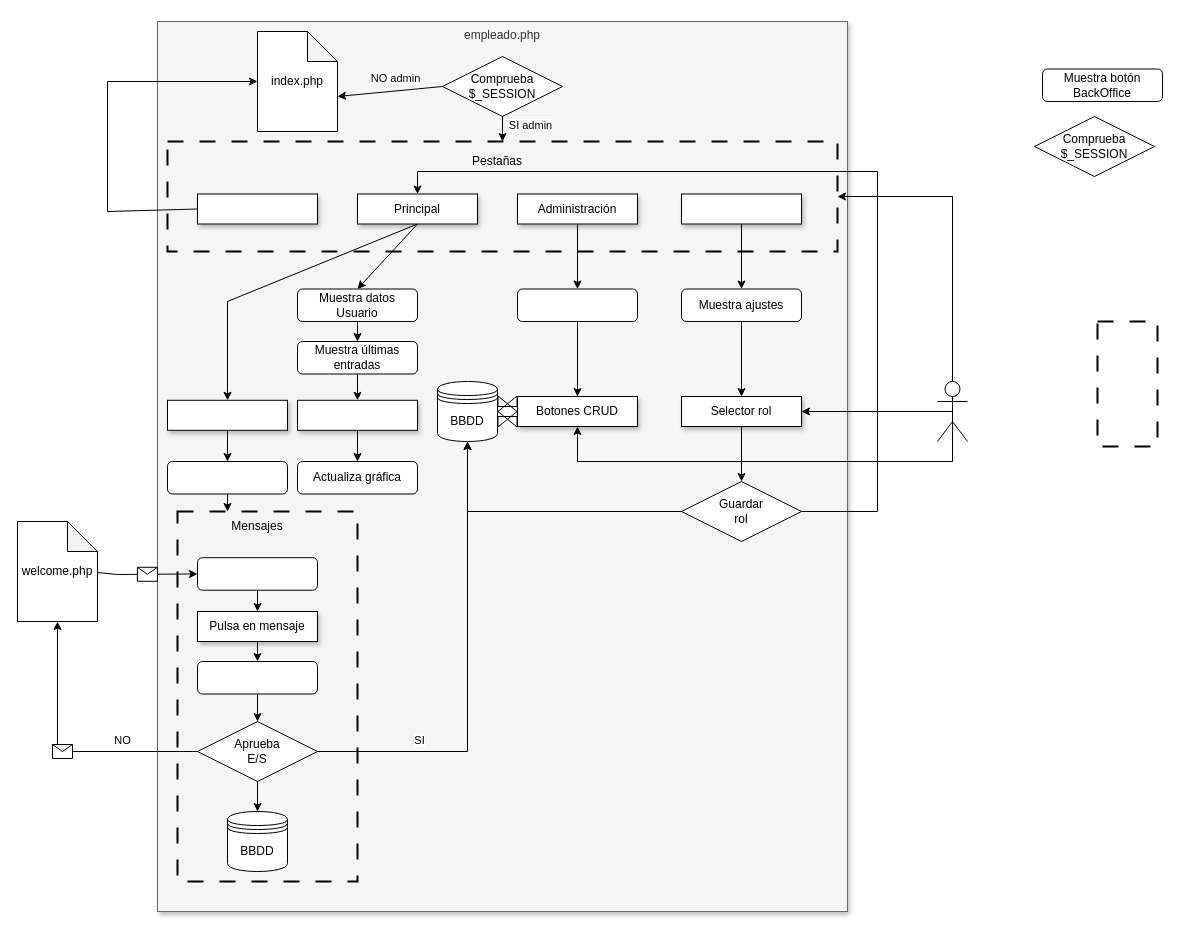
Some shapes in this 1180 by 936 pixel diagram are drawn without their labels. The centre of each missing label's shape, as x and y in pixels:
Ajustes: [742,210]
Entra mensaje: [257,573]
Filtrar: [358,416]
LogOut: [258,210]
Muestra bloques: [577,305]
Muestra detalle mensaje: [257,677]
Pulsa botón mensaje: [228,416]
Usuario "Empleado Administración": [952,411]
Ventana mensajes pendientes: [227,477]
